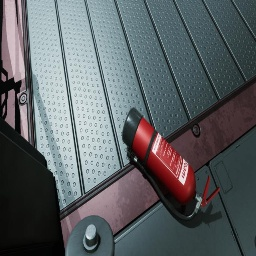FireExtinguisher ]: (122, 107, 220, 221)
